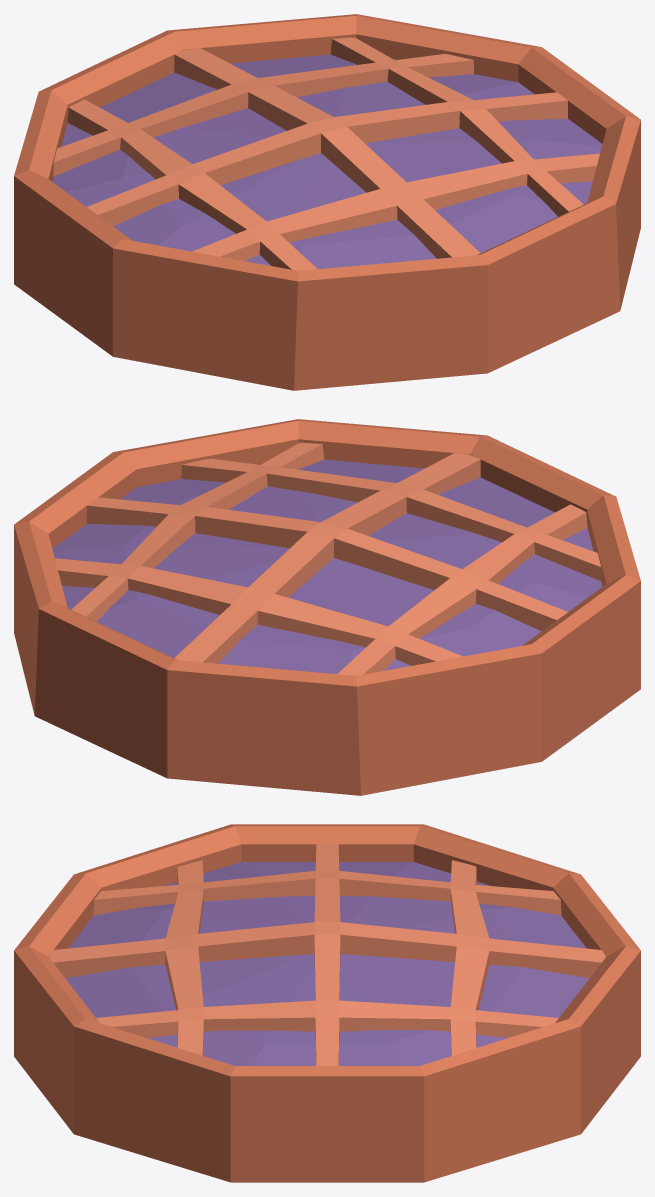
Rendered from SM_Food_Pie_01.fbx.
The picture shows the model from 3 angles, top to bottom: view 1: azimuth 30°, elevation 25°; view 2: azimuth 150°, elevation 25°; view 3: azimuth 270°, elevation 25°; orthographic projection. The views are drawn at different scales.
Visible parts, largest first — view 1: SM_Food_Pie_01; view 2: SM_Food_Pie_01; view 3: SM_Food_Pie_01.
Part boxes in pixels (<box>): SM_Food_Pie_01: <box>14,14,640,390</box>; SM_Food_Pie_01: <box>14,419,640,795</box>; SM_Food_Pie_01: <box>14,824,640,1182</box>.
Size of the model in its own units: 0.2567 by 0.0608 by 0.2699.
